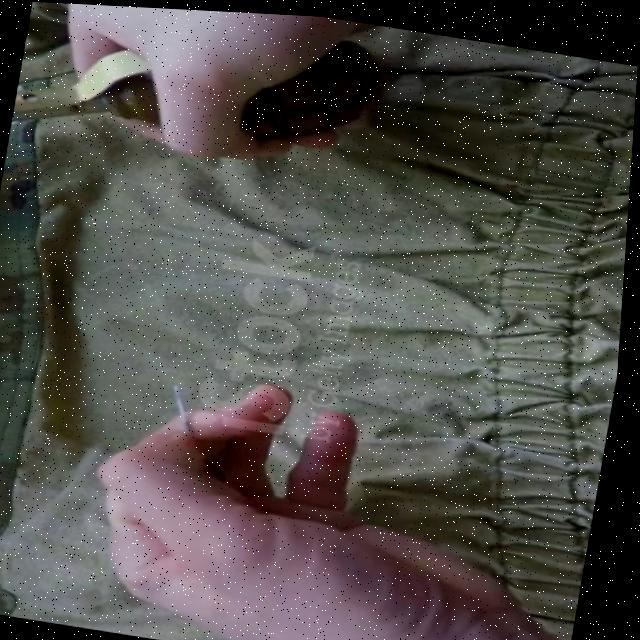grenade: (11, 1, 379, 167)
